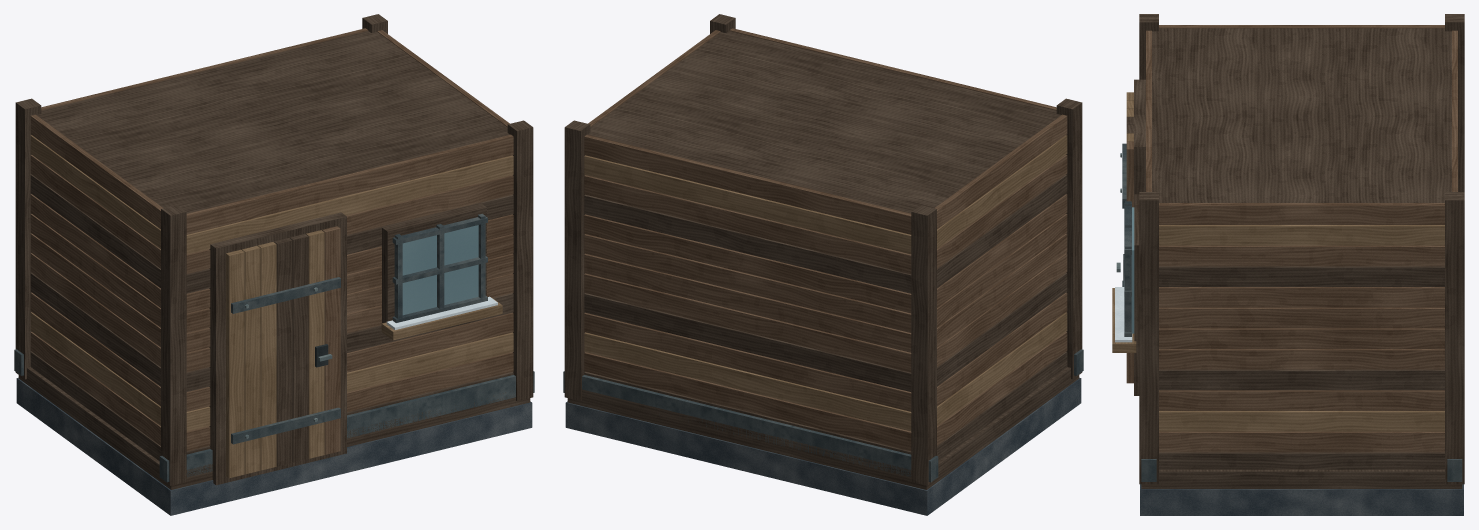
File: 04_Cabin_Shell.obj
3 views of the same model, side by side, from view 1: azimuth 30°, elevation 25°; view 2: azimuth 150°, elevation 25°; view 3: azimuth 270°, elevation 25° (orthographic). The views are drawn at different scales.
Visible parts, largest first — view 1: 04_Cabin_Shell; view 2: 04_Cabin_Shell; view 3: 04_Cabin_Shell.
Part boxes in pixels (bbox=[...]): 04_Cabin_Shell: bbox=[14, 14, 534, 515]; 04_Cabin_Shell: bbox=[563, 14, 1083, 515]; 04_Cabin_Shell: bbox=[1112, 14, 1464, 515].
Size of the model in its own units: 2.95 by 2.3 by 2.33.
Materials: 9 (9 with a texture image).
